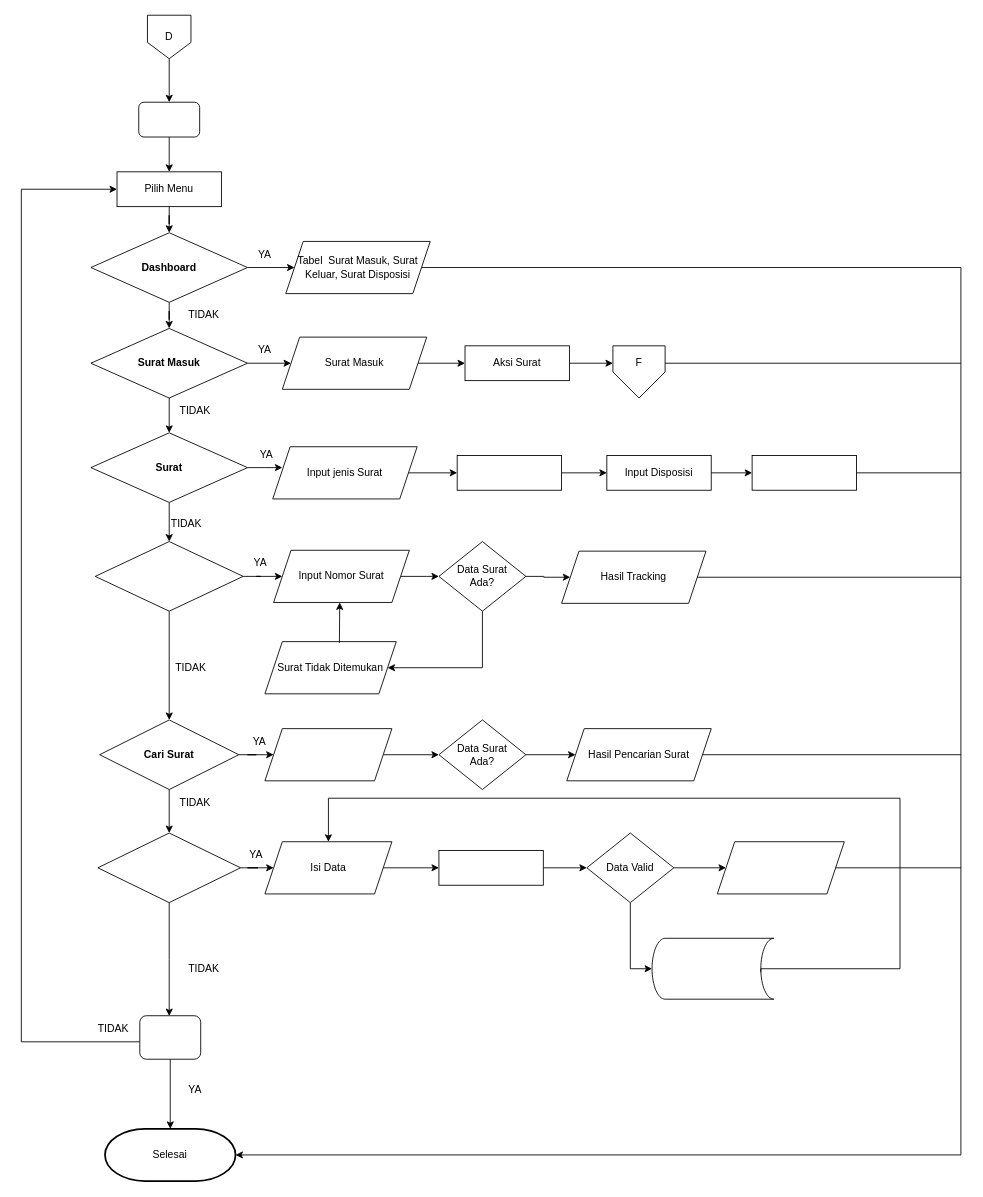
Some shapes in this 983 by 1197 pixel diagram are drawn without their labels. Here are the shapes that lost their labels. From the top down, the centre of each, then its label:
At (x=169, y=119): "Login".
At (x=509, y=472): "Pilih Detail".
At (x=804, y=472): "Kirim Disposisi".
At (x=168, y=576): "Tracking".
At (x=328, y=754): "Input informasi Surat".
At (x=169, y=867): "Ubah Profil".
At (x=490, y=867): "Upload Foto".
At (x=780, y=867): "Profil Terubah".
At (x=712, y=968): "Menampilkan Pesan Gagal Ubah Profill".
At (x=170, y=1037): "Logout".
